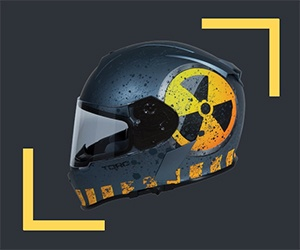with_helmet: (66, 33, 249, 212)
